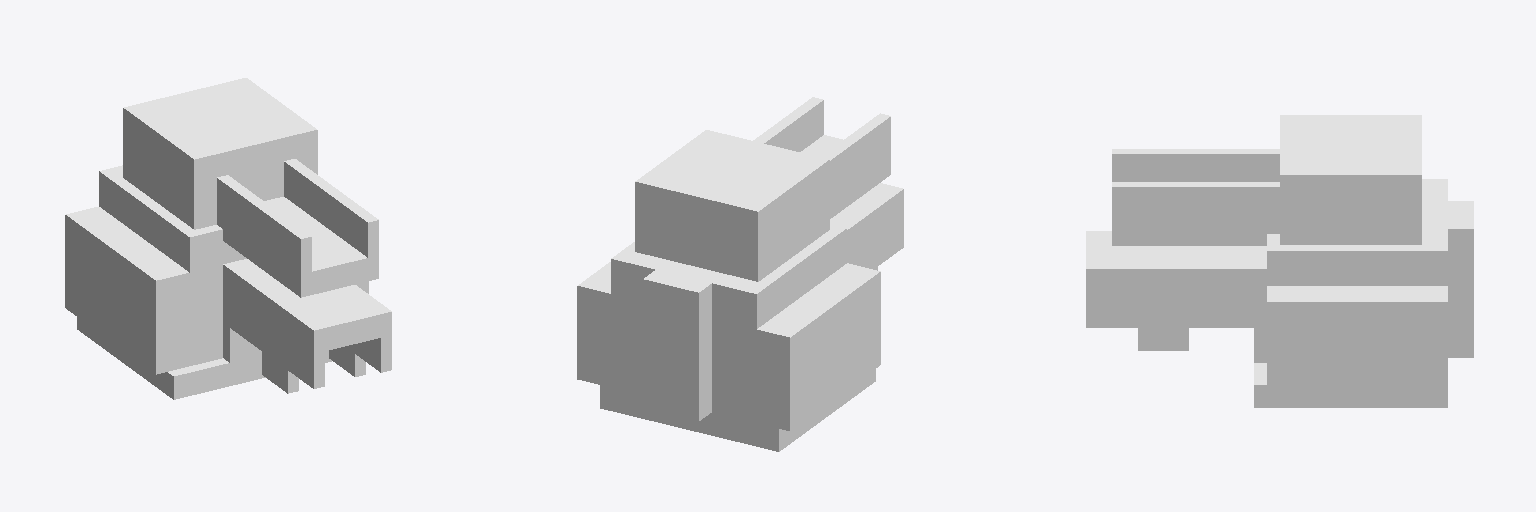
The model's file is AOETower0_Top.obj.
3 views of the same model, side by side, from view 1: azimuth 30°, elevation 25°; view 2: azimuth 150°, elevation 25°; view 3: azimuth 270°, elevation 25° (orthographic).
Parts seen in each view (by area): view 1: AOETower0_Top; view 2: AOETower0_Top; view 3: AOETower0_Top.
Boxes of the visible parts, <box> form: AOETower0_Top: <box>65,78,391,399</box>; AOETower0_Top: <box>577,97,903,451</box>; AOETower0_Top: <box>1086,115,1473,407</box>.
Size of the model in its own units: 19 by 19 by 30.